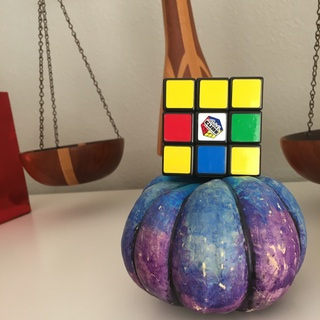face: (163, 77, 261, 178)
